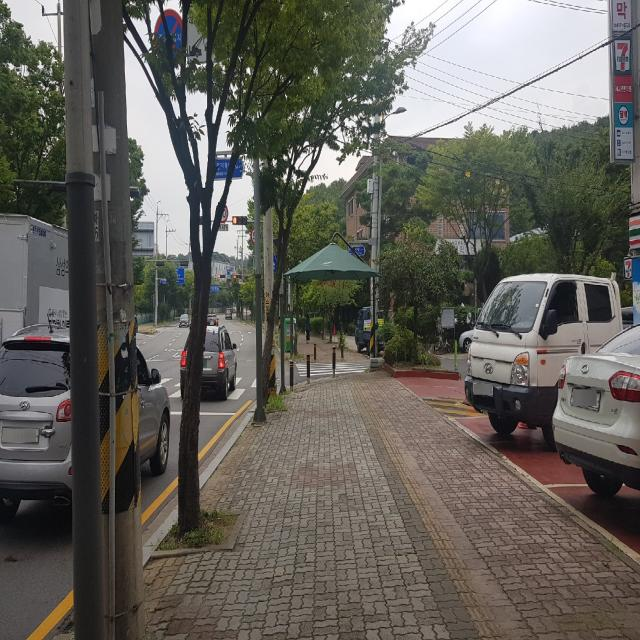횡단보도: (295, 362, 368, 377)
